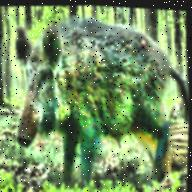boar: (3, 0, 192, 181)
